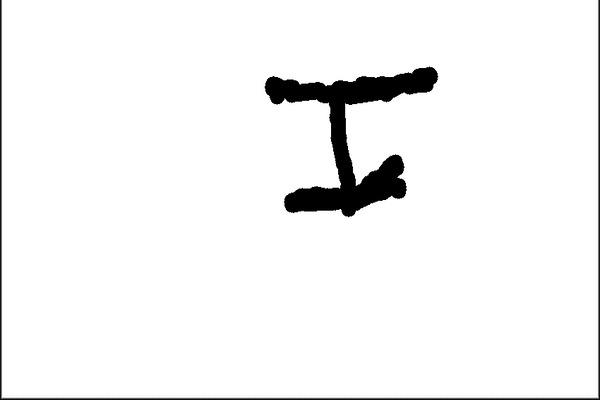i: (244, 67, 463, 221)
